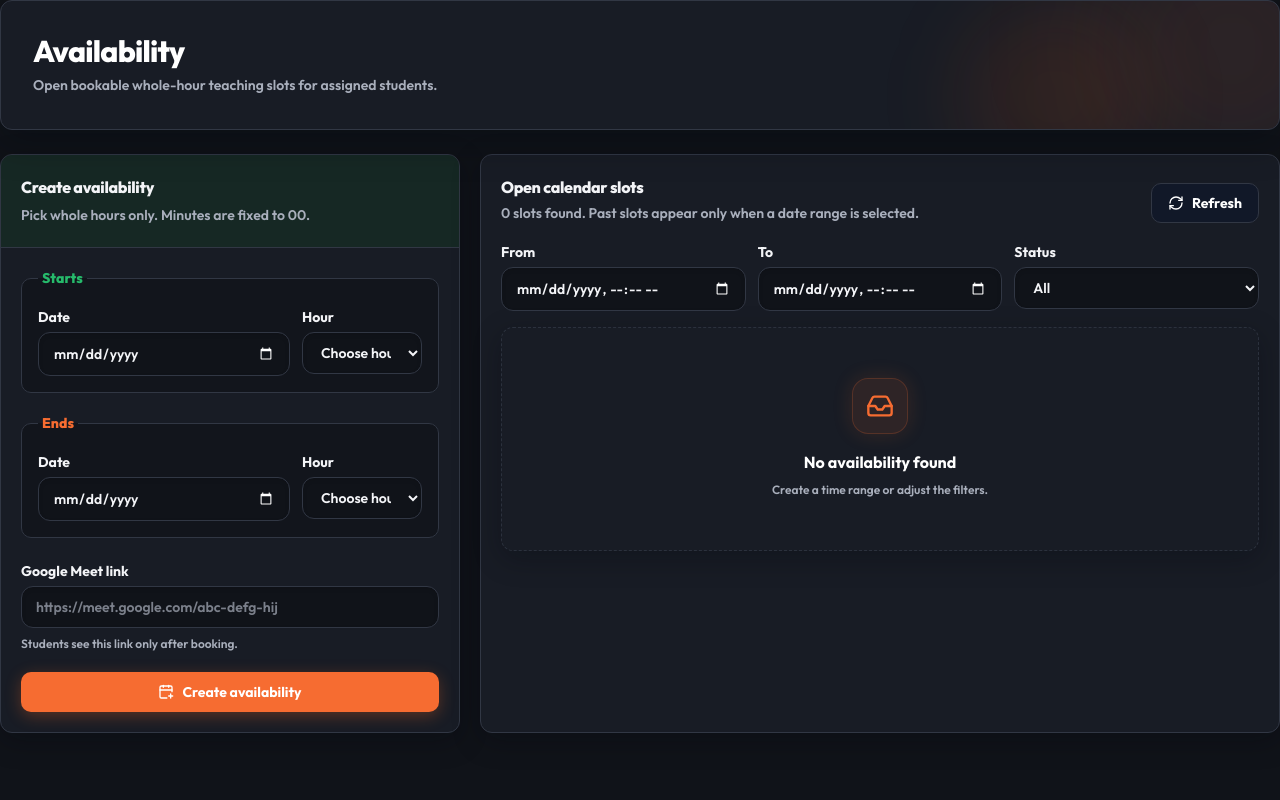
Test: Teacher workspace › validates Google Meet link before creating availability
This screenshot has width=1280, height=800.
Type "2026-07-23" into the date field with test id "teacher-availability-start-date" at (164,354), box [38,332,290,376]
Select "10h" in the dropdown with test id "teacher-availability-start-hour" at (362,353), box [302,332,422,374]
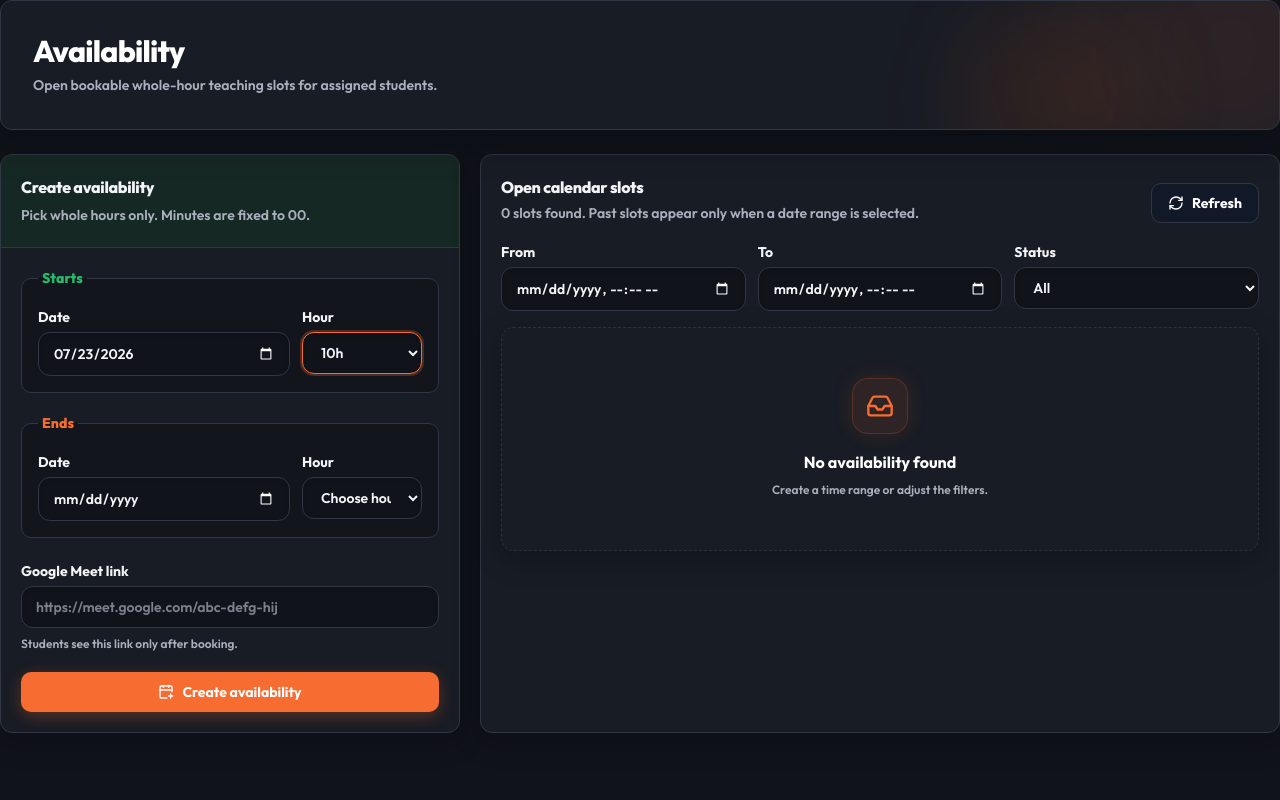
Type "2026-07-23" into the date field with test id "teacher-availability-end-date" at (164,499), box [38,477,290,521]
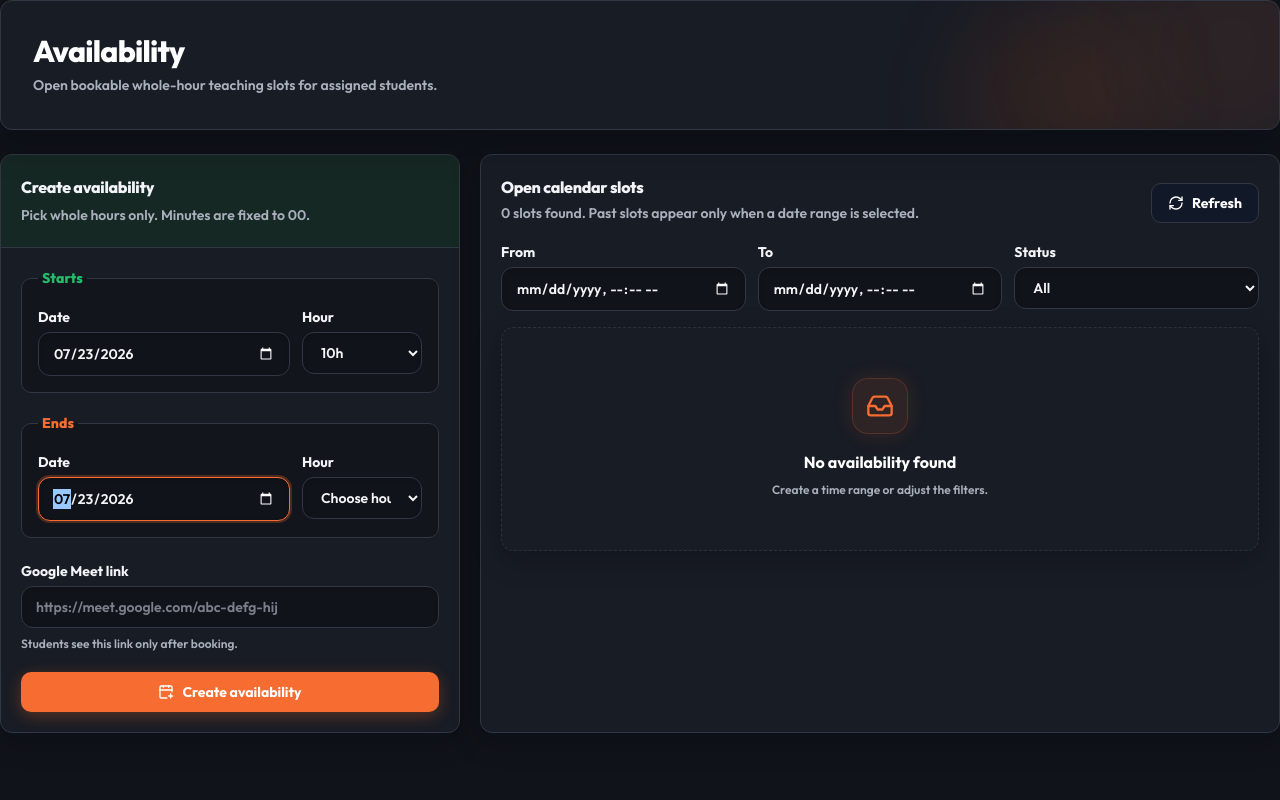
Select "11h" in the dropdown with test id "teacher-availability-end-hour" at (362,498), box [302,477,422,519]
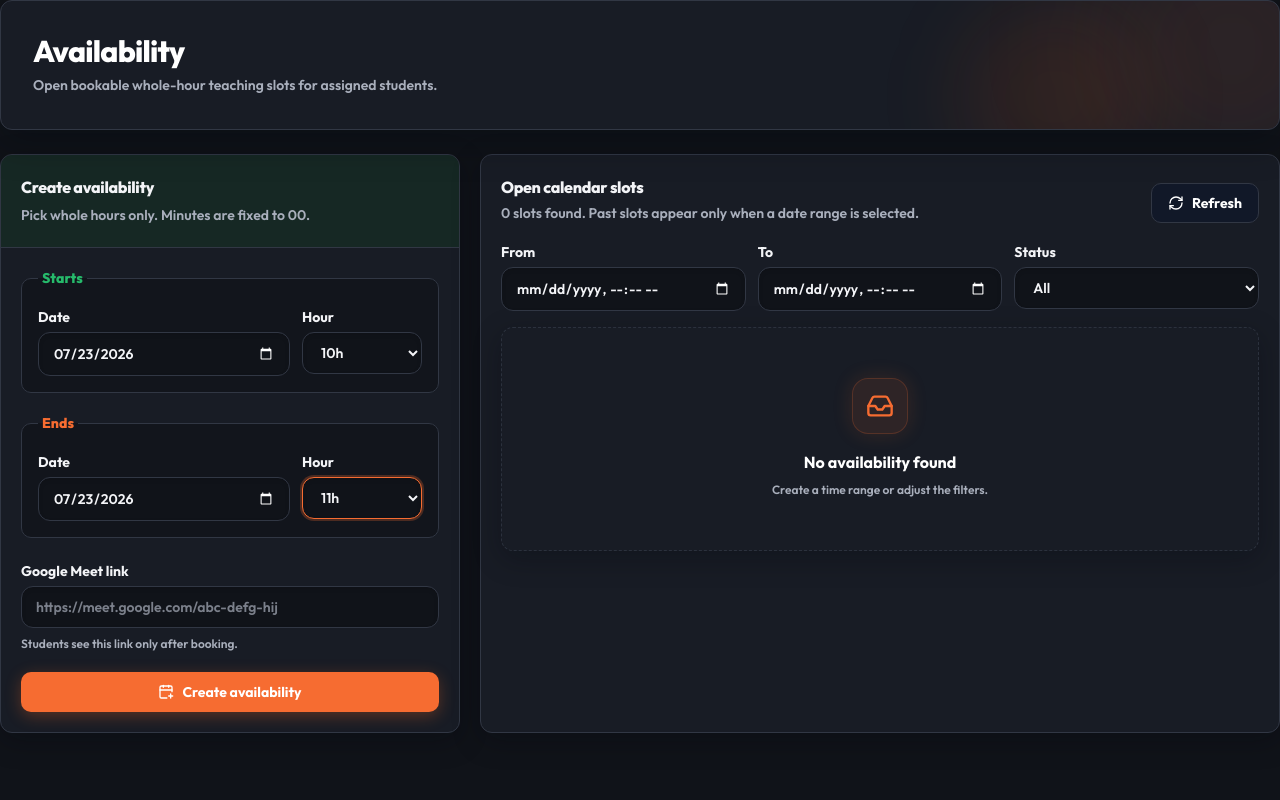
Click the button "Create availability" at (230,692), box [21,672,439,712]
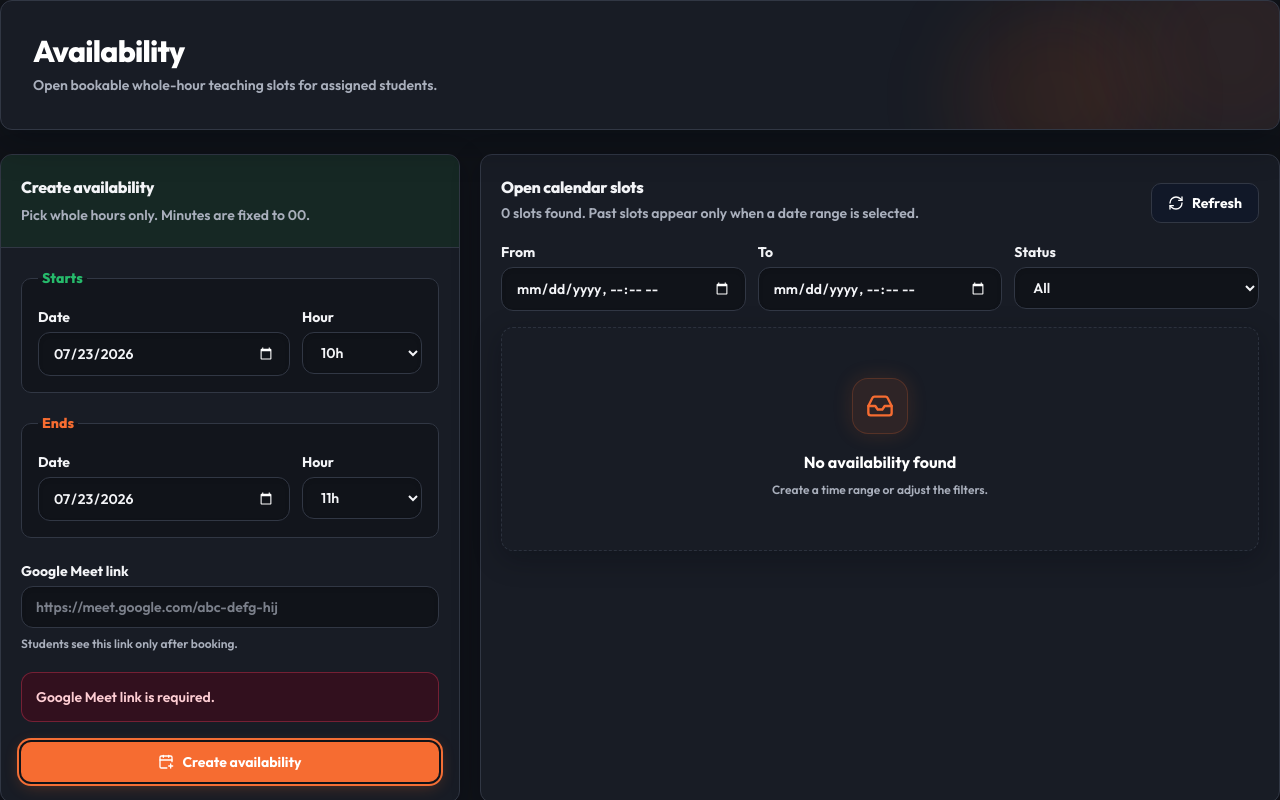
Expected: the text with test id "availability-error" shows "Google Meet link is required", [36,688,215,706]
Type "https://example.com/not-meet" into the field with test id "teacher-availability-meet-link" at (230,607), box [21,586,439,628]
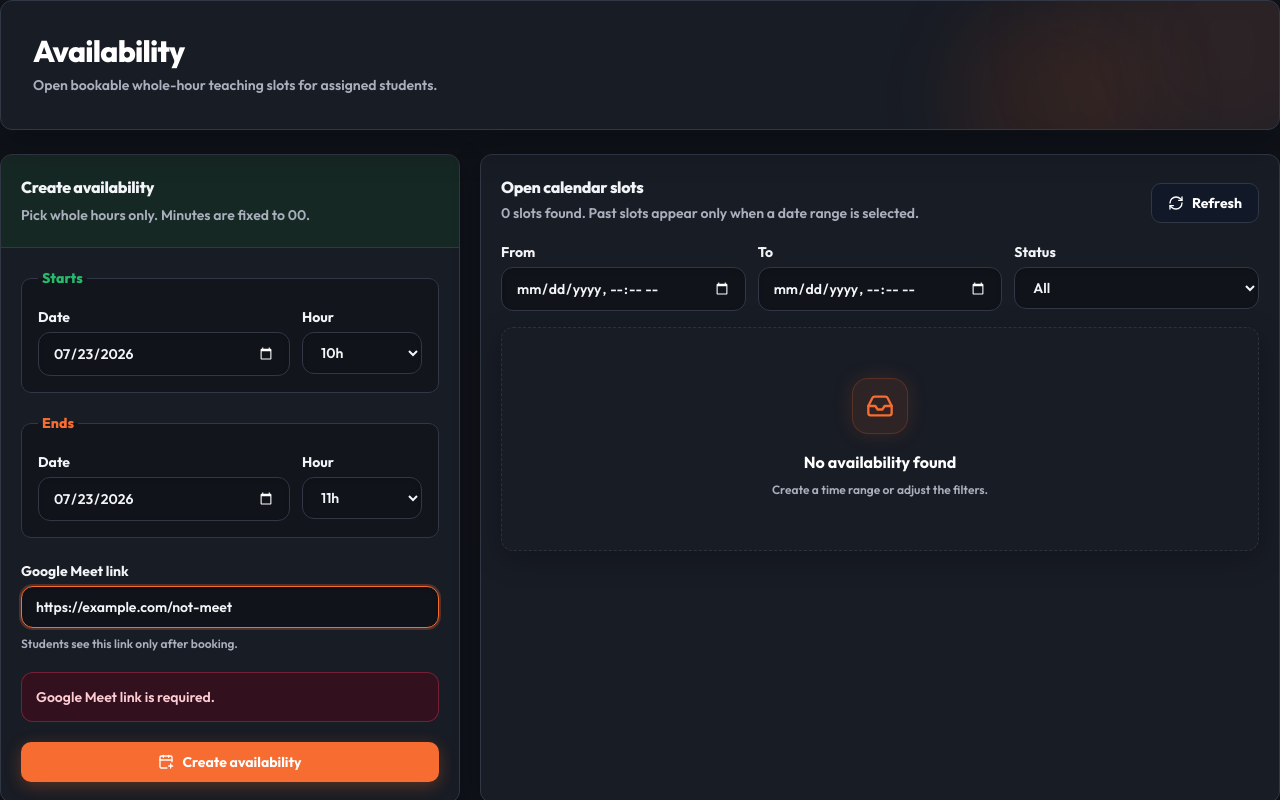
Click the button "Create availability" at (230,762), box [21,742,439,782]
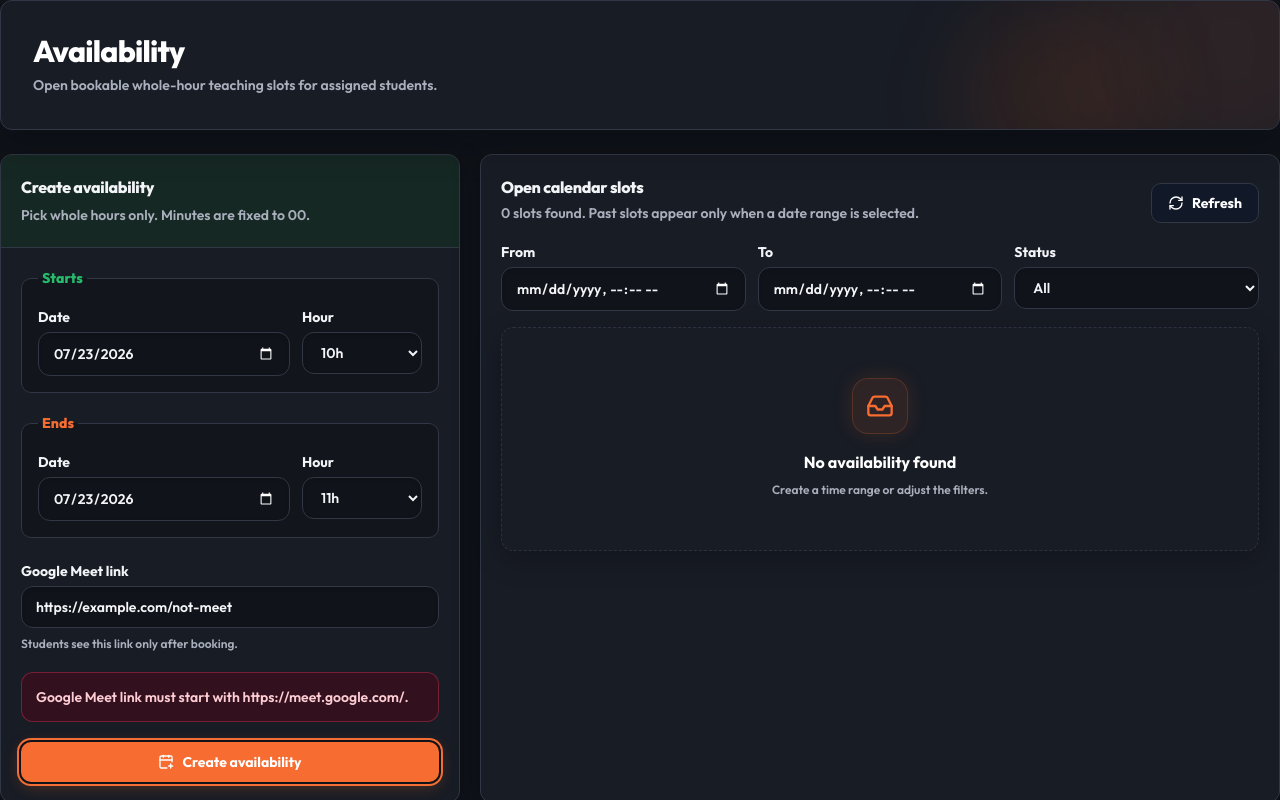
Expected: the text with test id "availability-error" shows "must start with https://meet.google.com/", [36,688,409,706]
